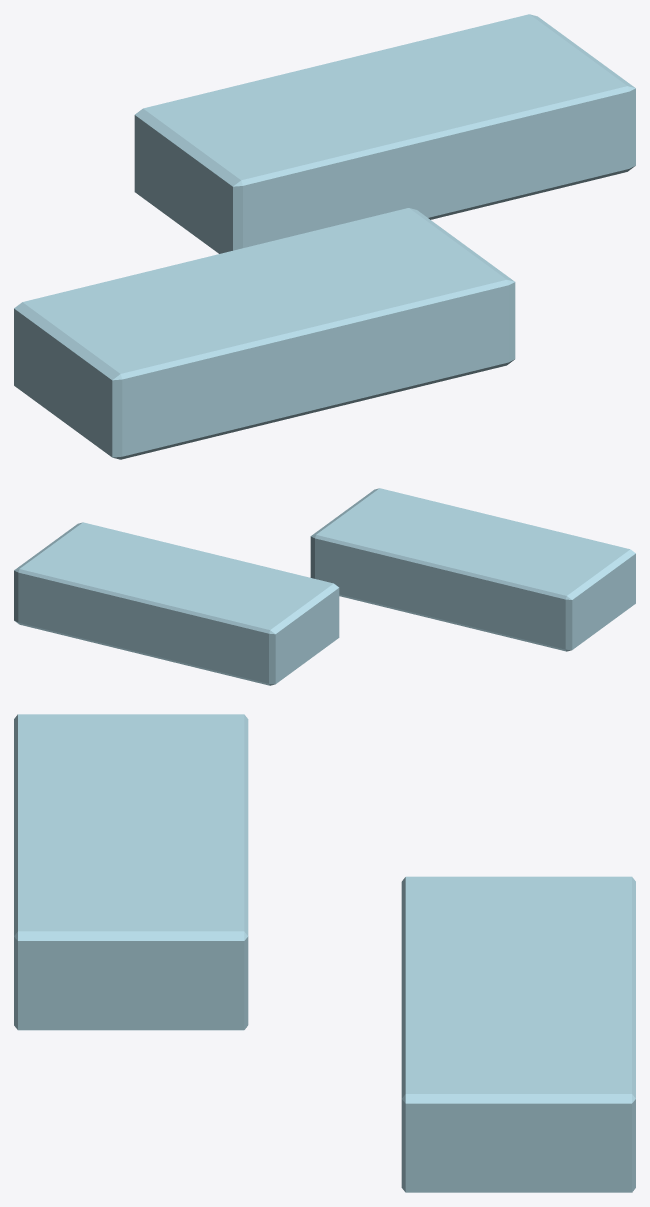
Rendered from Platform1.fbx.
The picture shows the model from 3 angles, top to bottom: view 1: azimuth 30°, elevation 25°; view 2: azimuth 150°, elevation 25°; view 3: azimuth 270°, elevation 25°; orthographic projection. The views are drawn at different scales.
Visible parts, largest first — view 1: pasted__block1, pasted__pasted__block1; view 2: pasted__pasted__block1, pasted__block1; view 3: pasted__block1, pasted__pasted__block1.
Part boxes in pixels (bbox=[...]): pasted__block1: bbox=[14, 208, 515, 459]; pasted__pasted__block1: bbox=[134, 14, 635, 253]; pasted__pasted__block1: bbox=[14, 522, 339, 685]; pasted__block1: bbox=[310, 488, 635, 651]; pasted__block1: bbox=[14, 714, 248, 1030]; pasted__pasted__block1: bbox=[401, 876, 635, 1192].
Bounding box in the file's own units: 4.03 × 0.4779 × 2.72.
